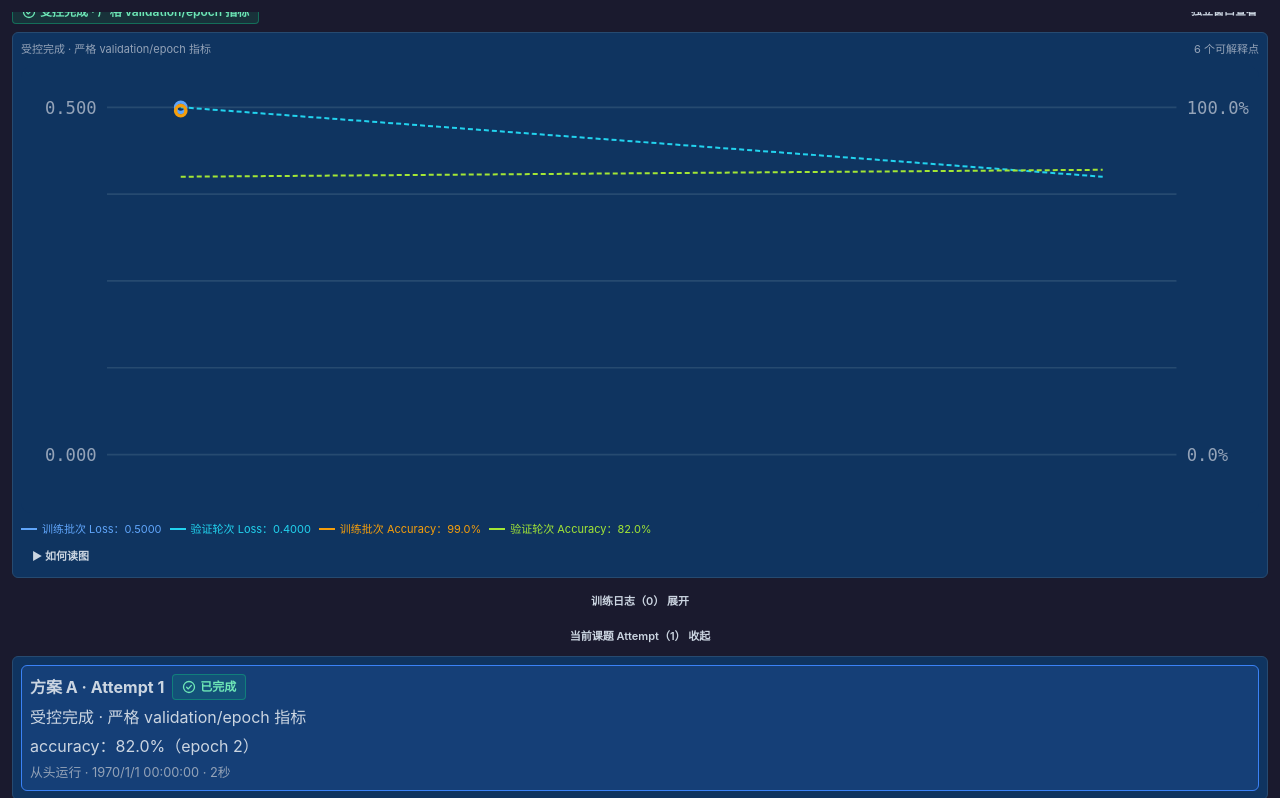
it: 训练图「如何读图」接线 › 读图说明只复述静态主题，不重新分析 metrics 也不授予资格
(page scrolled)
Click the button with test id "result-reading-guide-toggle" at (61, 556), box [21,545,1259,569]
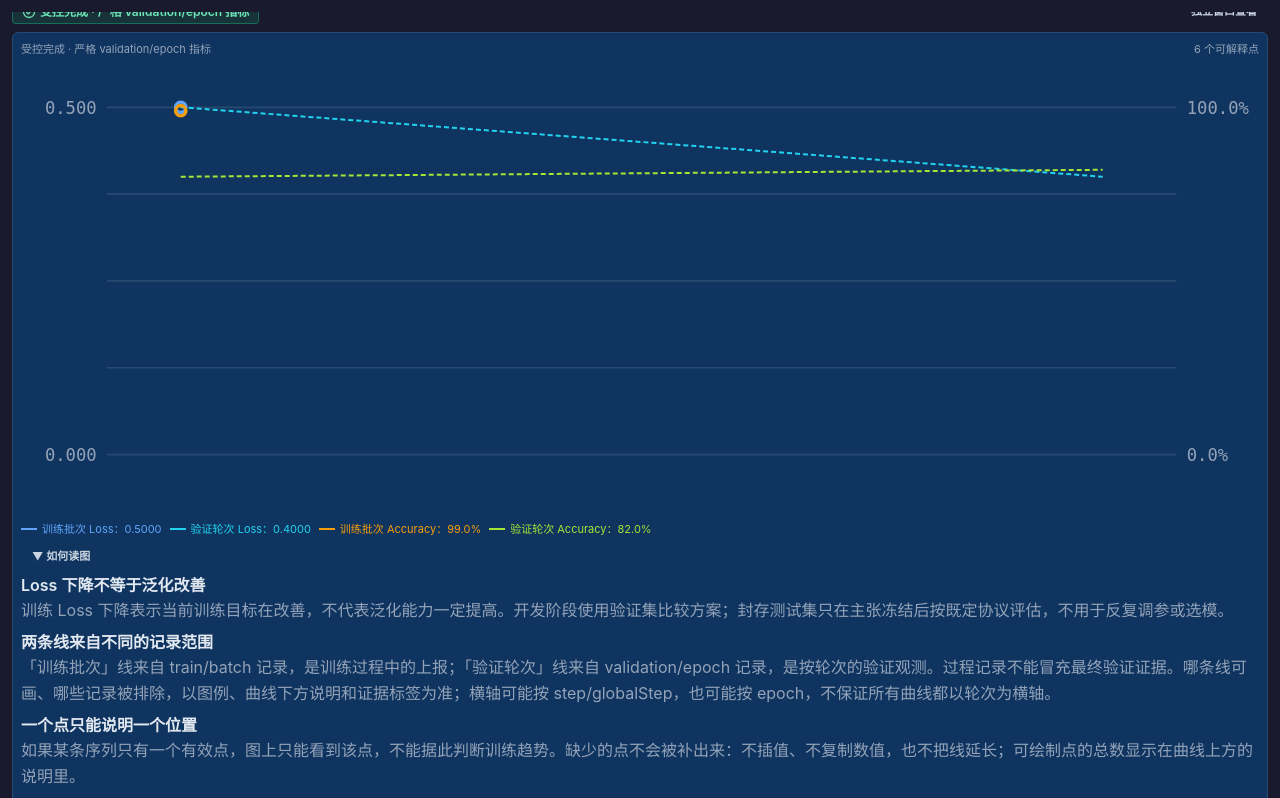
Expected: the element with class "training-chart__meta" shows "受控完成", [21,42,211,56]
Expected: the element with test id "result-reading-guide-body" shows "两条线来自不同的记录范围", [21,632,213,652]
